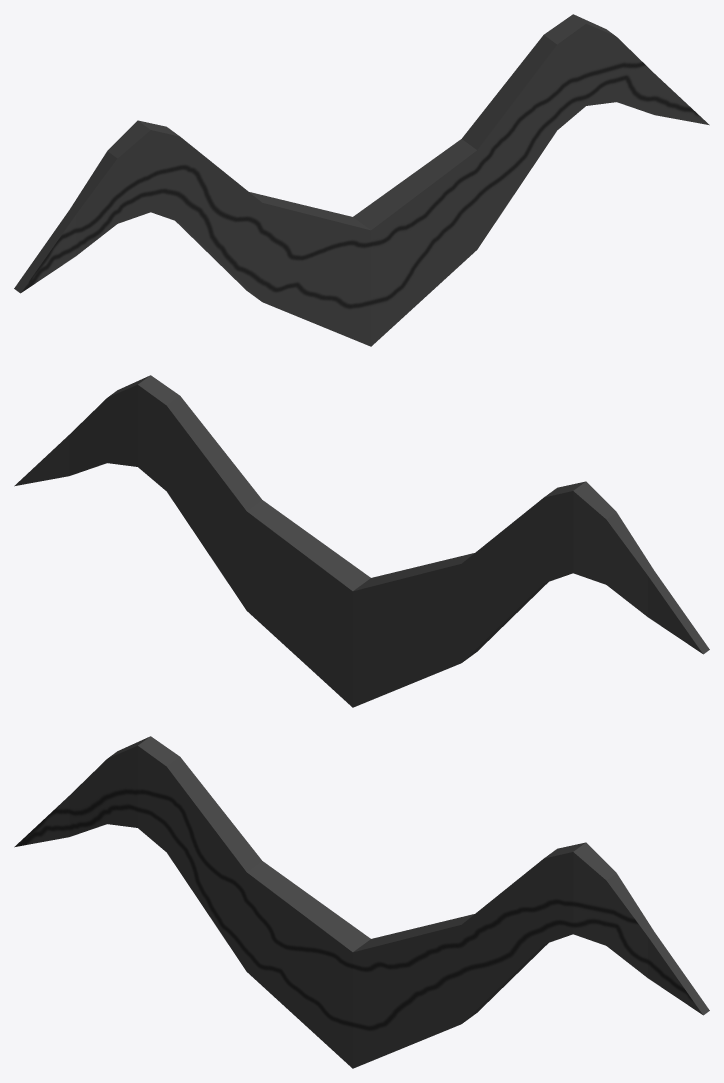
Rendered from bird.obj.
3 renders of one model, top to bottom at view 1: azimuth 30°, elevation 25°; view 2: azimuth 150°, elevation 25°; view 3: azimuth 330°, elevation 25°, orthographic.
Parts seen in each view (by area): view 1: Mesh.001_Cube; view 2: Mesh.001_Cube; view 3: Mesh.001_Cube.
Part boxes in pixels (x1=…): Mesh.001_Cube: x1=14, y1=14, x2=709, y2=346; Mesh.001_Cube: x1=14, y1=375, x2=709, y2=707; Mesh.001_Cube: x1=14, y1=736, x2=709, y2=1068.
Bounding box in the file's own units: 0.6943 × 0.258 × 0.032.
